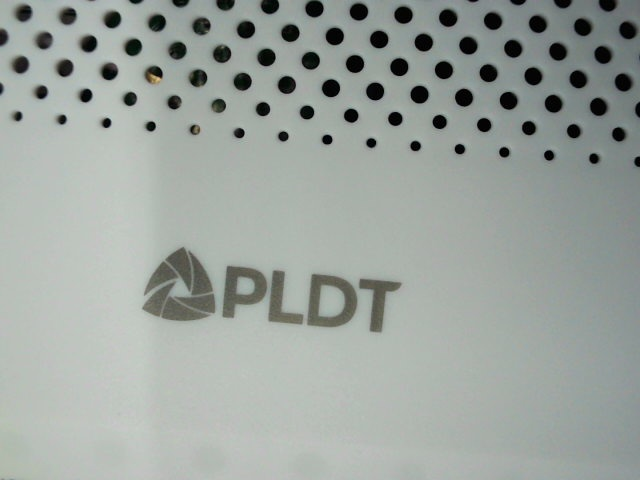BH_PLDT: (131, 239, 402, 362)
